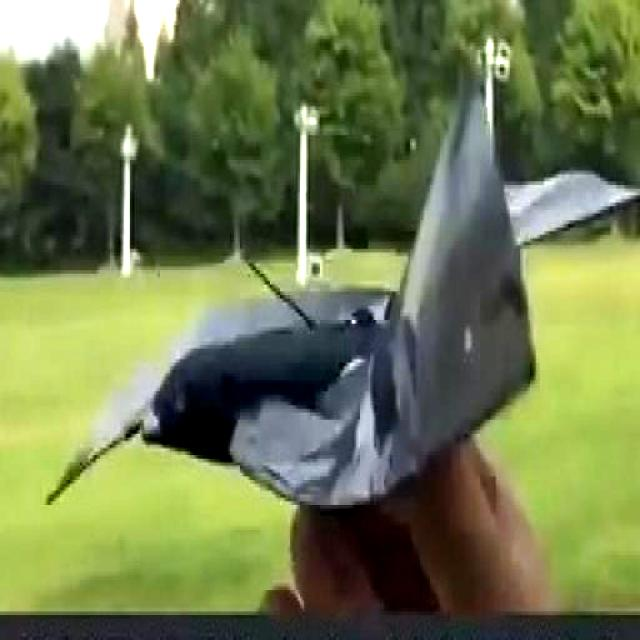airplane: (55, 66, 640, 502)
